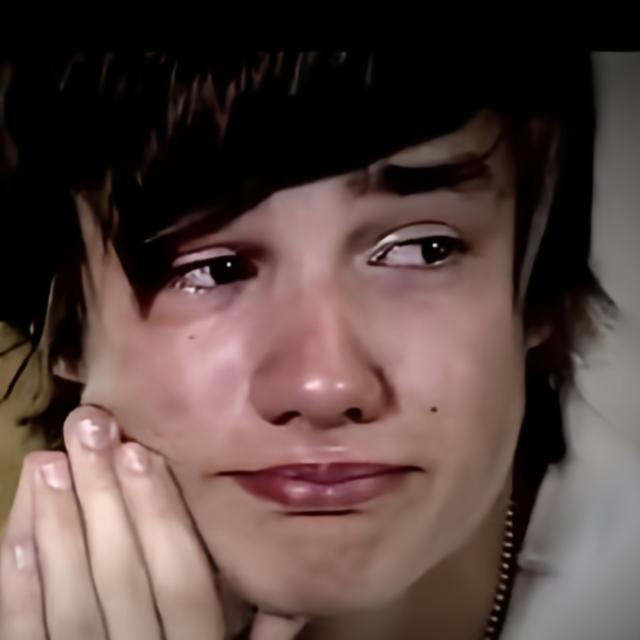sad: (85, 64, 527, 628)
